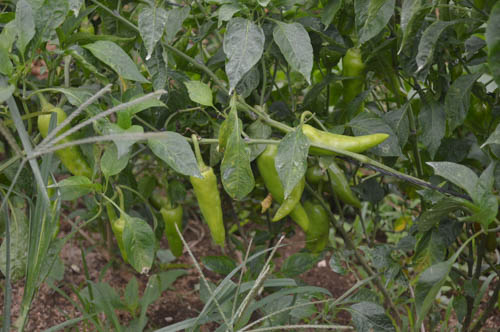ChiliPepper: (42, 110, 94, 183), (261, 147, 304, 229), (192, 171, 225, 246), (300, 129, 386, 157), (275, 146, 304, 227), (319, 162, 359, 206), (342, 50, 364, 119), (159, 207, 182, 257), (304, 203, 327, 250), (114, 219, 134, 266)
